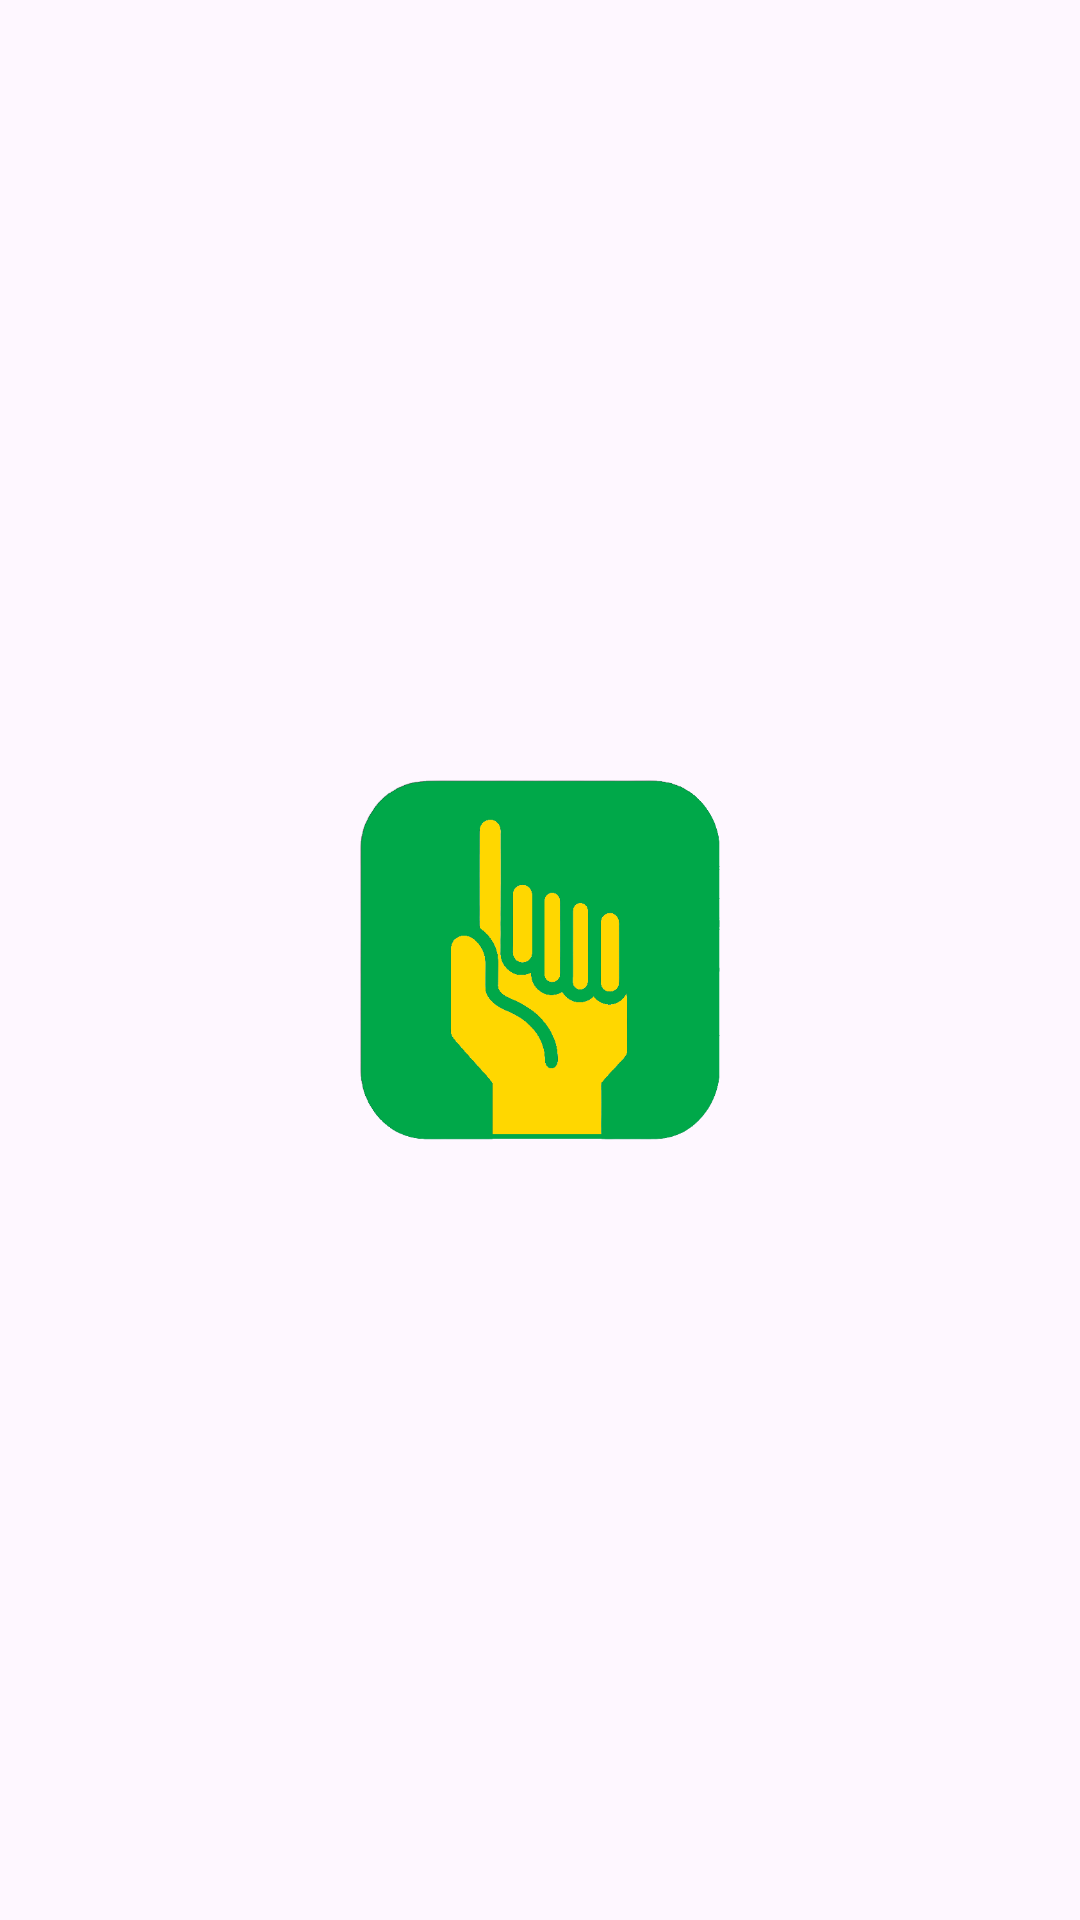

Named icons in this screenshot (1080 × 1920) and their bounding boxes, [x1, y1, x2, y2]:
signos verde: [360, 780, 720, 1140]
